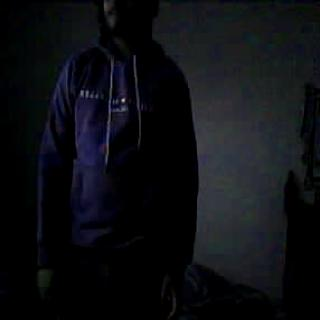Blue Hoodie: (36, 39, 196, 246)
Gray Sweatpants: (60, 255, 164, 320)
